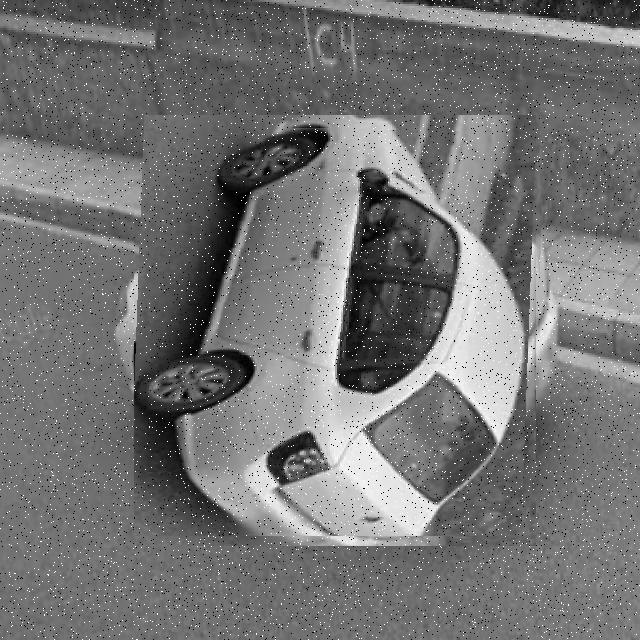car: (135, 126, 546, 538)
